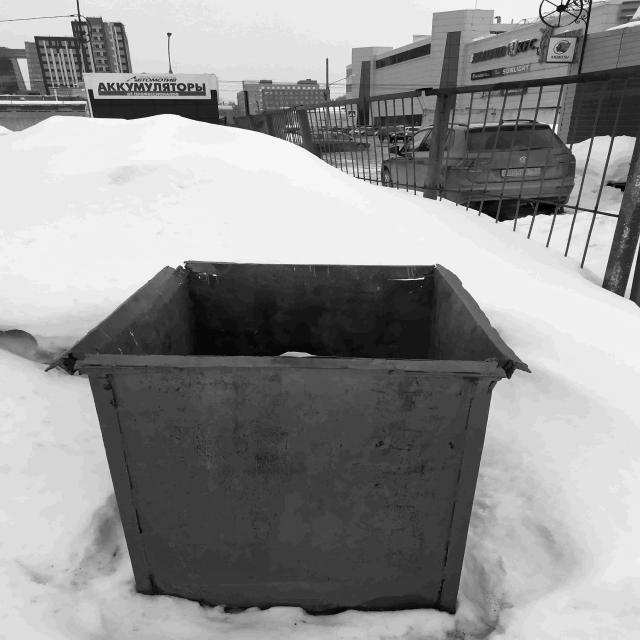Trashcan: (54, 226, 542, 616)
